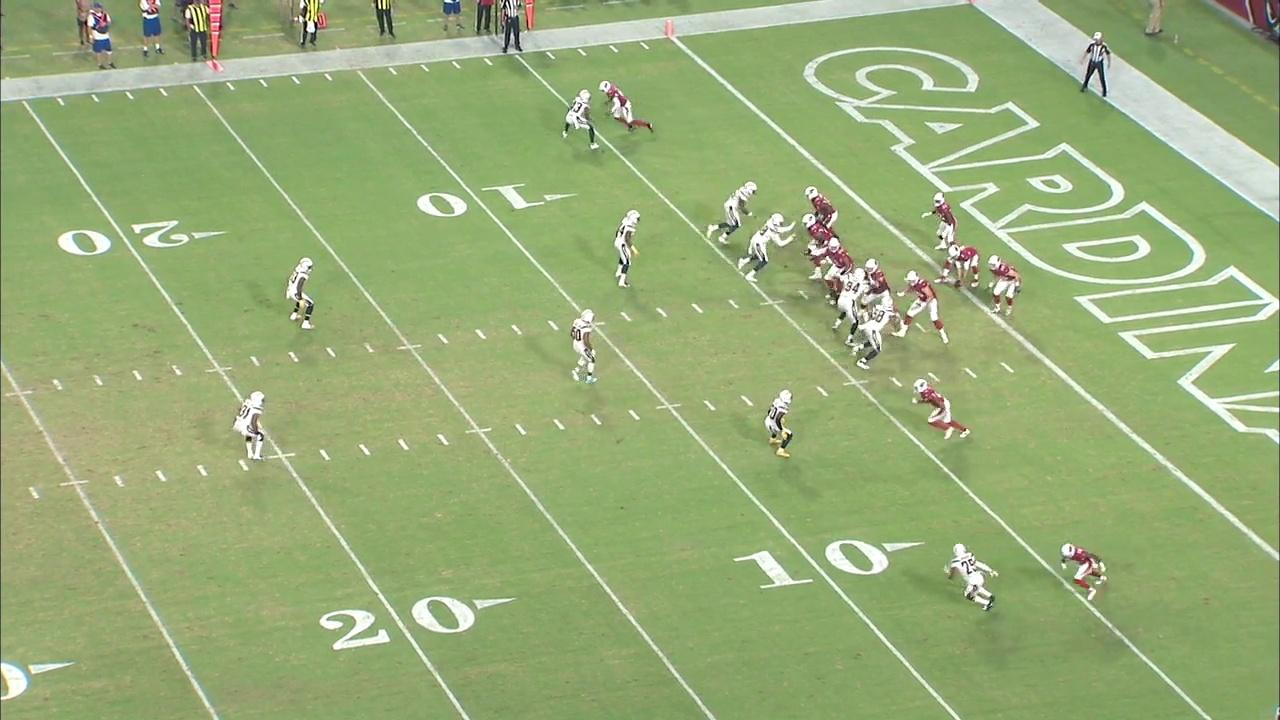player: (697, 173, 758, 249), (911, 375, 971, 446), (738, 213, 797, 285), (943, 544, 996, 610), (598, 79, 654, 141), (901, 272, 948, 343), (1061, 540, 1108, 606), (232, 388, 270, 469), (854, 301, 897, 371), (609, 205, 644, 289), (830, 269, 862, 347), (799, 212, 837, 277), (568, 305, 599, 384), (288, 251, 317, 334), (988, 253, 1022, 320), (766, 387, 795, 459), (563, 87, 596, 150), (937, 244, 984, 287), (824, 236, 851, 308), (805, 184, 839, 233), (927, 191, 957, 243), (865, 257, 891, 303)
ref: (1074, 28, 1115, 99), (500, 0, 527, 53)
